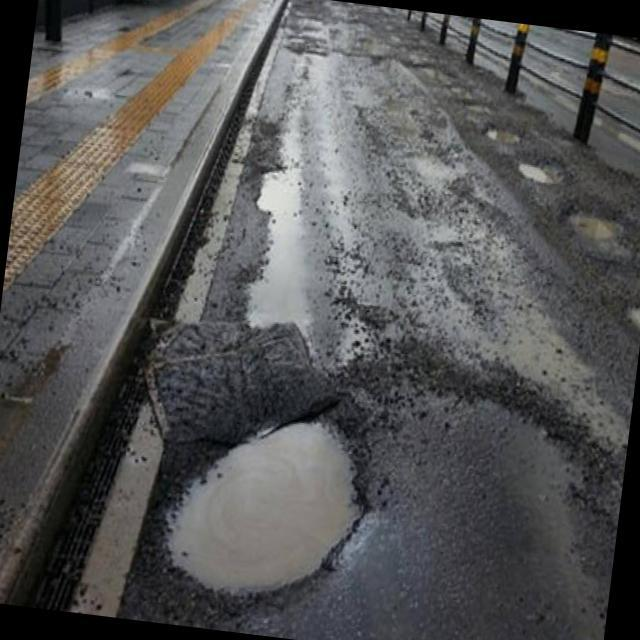pothole: (138, 364, 384, 630), (556, 192, 616, 246), (503, 148, 568, 195), (478, 115, 531, 150), (414, 58, 462, 87), (612, 295, 640, 338)
